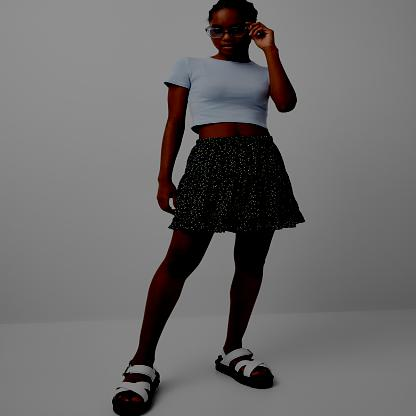jacket: (159, 129, 309, 240), (170, 52, 296, 141)
